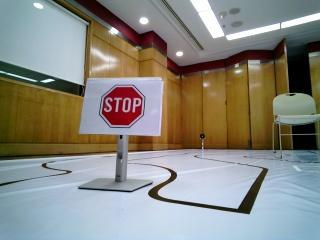stop: (89, 79, 156, 135)
